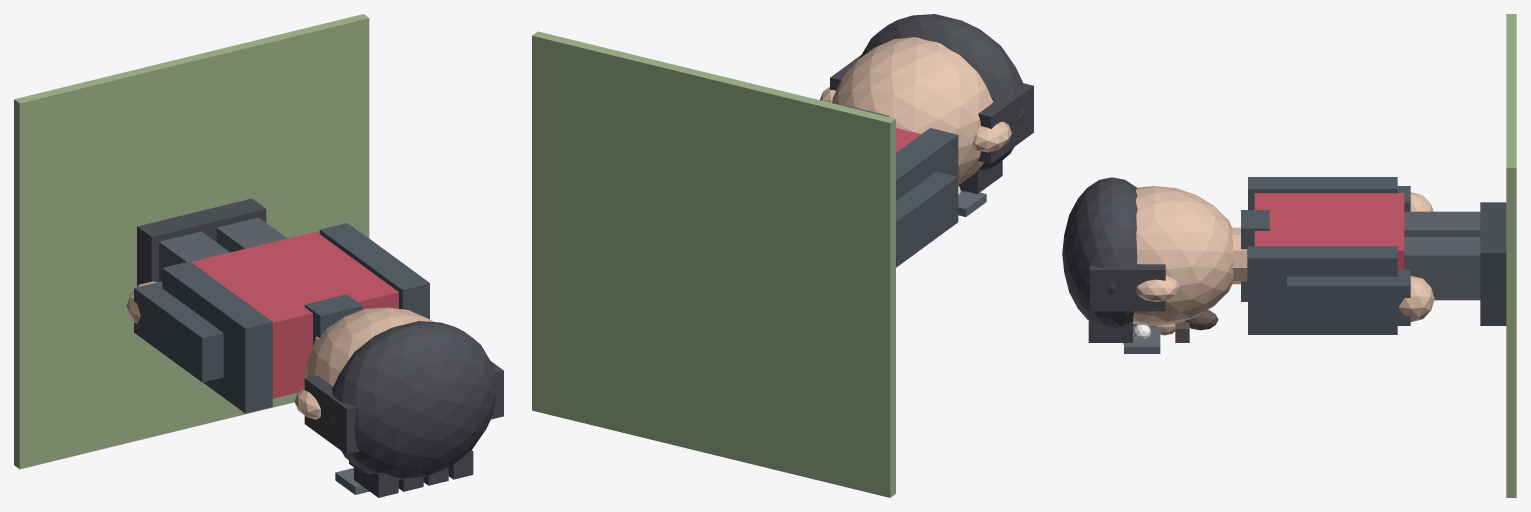
The model's file is Ankan_tower.glb.
3 views of the same model, side by side, from view 1: azimuth 30°, elevation 25°; view 2: azimuth 150°, elevation 25°; view 3: azimuth 270°, elevation 25° (orthographic). The views are drawn at different scales.
Parts seen in each view (by area): view 1: DisplayGround, HairCap, RedShirt, LeftJacket, LeftArm, Head, RightJacket, LeftSideHair, LeftShoe, LeftLeg, RightLeg, RightShoe (+3 smaller); view 2: DisplayGround, Head, HairCap, LeftArm, LeftJacket, LeftSideHair, LeftEar, HairFringe0, LeftFrame; view 3: Head, RedShirt, RightJacket, HairCap, RightArm, DisplayGround, RightLeg, RightSideHair, RightShoe, LeftJacket, LeftLeg, RightHand (+6 smaller).
Boxes of the visible parts, left/top/right/bottom form: DisplayGround: left=14, top=14, right=369, bottom=469; HairCap: left=331, top=321, right=496, bottom=479; RedShirt: left=191, top=231, right=398, bottom=398; LeftJacket: left=162, top=261, right=272, bottom=413; LeftArm: left=134, top=281, right=223, bottom=382; Head: left=304, top=307, right=433, bottom=385; RightJacket: left=319, top=223, right=429, bottom=319; LeftSideHair: left=304, top=375, right=359, bottom=454; LeftShoe: left=137, top=212, right=208, bottom=286; LeftLeg: left=159, top=231, right=229, bottom=281; RightLeg: left=216, top=217, right=287, bottom=252; RightShoe: left=195, top=198, right=266, bottom=241; DisplayGround: left=532, top=31, right=895, bottom=497; Head: left=832, top=37, right=993, bottom=184; HairCap: left=859, top=14, right=1024, bottom=170; LeftArm: left=896, top=172, right=957, bottom=267; LeftJacket: left=896, top=128, right=958, bottom=221; LeftSideHair: left=978, top=83, right=1033, bottom=163; LeftEar: left=973, top=121, right=1011, bottom=152; HairFringe0: left=958, top=160, right=1002, bottom=193; LeftFrame: left=958, top=191, right=986, bottom=216; Head: left=1133, top=186, right=1233, bottom=325; RedShirt: left=1254, top=193, right=1404, bottom=269; RightJacket: left=1248, top=246, right=1397, bottom=334; HairCap: left=1062, top=177, right=1137, bottom=328; RightArm: left=1287, top=269, right=1410, bottom=325; DisplayGround: left=1506, top=14, right=1516, bottom=497; RightLeg: left=1404, top=237, right=1480, bottom=300; RightSideHair: left=1090, top=264, right=1165, bottom=311; RightShoe: left=1480, top=227, right=1506, bottom=325; LeftJacket: left=1248, top=177, right=1397, bottom=209; LeftLeg: left=1404, top=211, right=1480, bottom=236; RightHand: left=1398, top=275, right=1434, bottom=321.
Bounding box in the file's own units: 2.8 × 2.8 × 3.49.
